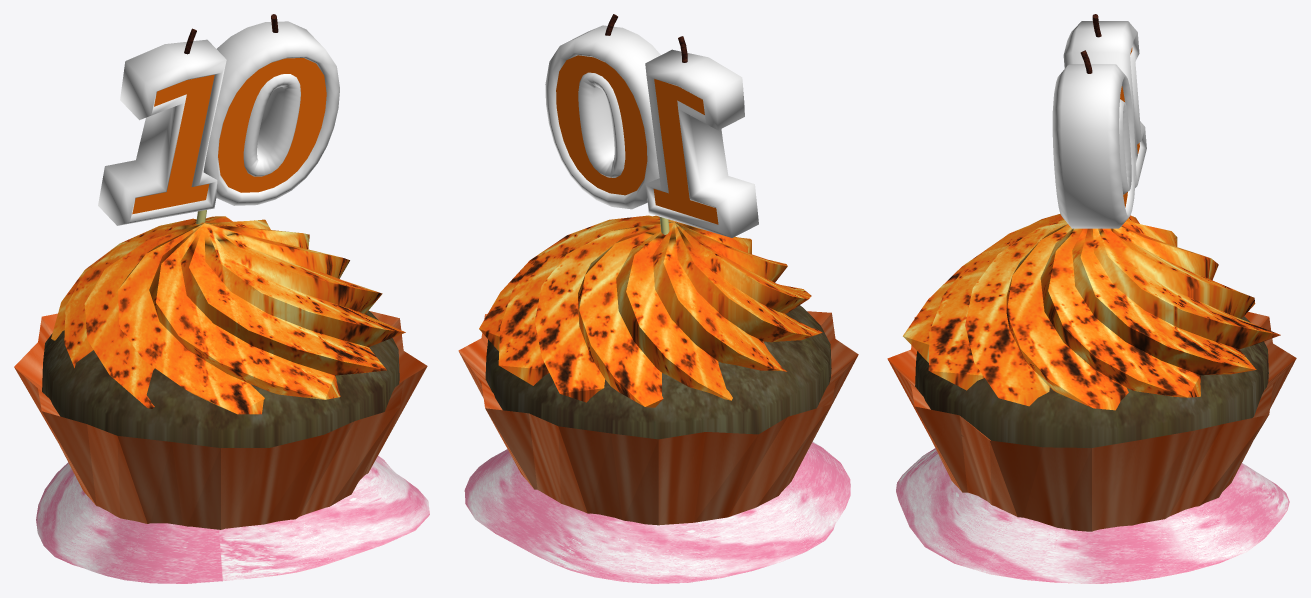
The model's file is Flag-Spawner-10.FBX.
3 renders of one model, left to right at view 1: azimuth 30°, elevation 25°; view 2: azimuth 150°, elevation 25°; view 3: azimuth 270°, elevation 25°, orthographic. The views are drawn at different scales.
Visible parts, largest first — view 1: Flag-Spawner-10; view 2: Flag-Spawner-10; view 3: Flag-Spawner-10.
Part boxes in pixels (left/top/right/bottom): Flag-Spawner-10: left=14, top=14, right=429, bottom=583; Flag-Spawner-10: left=458, top=14, right=858, bottom=583; Flag-Spawner-10: left=887, top=14, right=1296, bottom=583.
Size of the model in its own units: 27.56 by 36.33 by 27.56.
